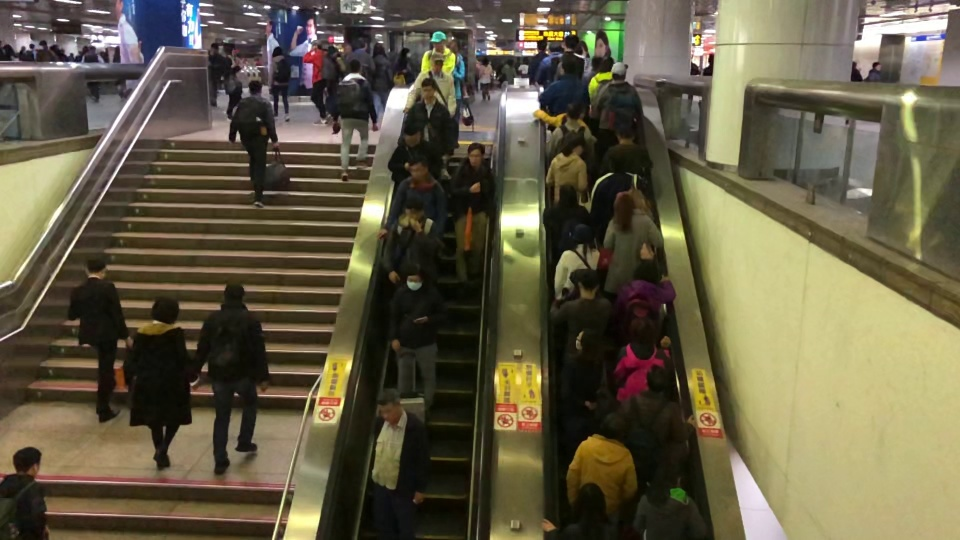person_head: (445, 39, 465, 150), (572, 480, 608, 529), (222, 42, 243, 121), (646, 460, 683, 503), (12, 444, 43, 479), (612, 190, 635, 235), (376, 387, 403, 424), (151, 295, 180, 328), (628, 316, 657, 348), (598, 411, 628, 441), (634, 258, 663, 285), (645, 363, 669, 393), (614, 117, 637, 147), (578, 268, 599, 300), (404, 262, 426, 291), (575, 328, 600, 353), (559, 134, 585, 158), (407, 154, 429, 181), (223, 281, 246, 306), (466, 140, 486, 168), (607, 150, 631, 173), (558, 183, 579, 209), (403, 196, 424, 222), (571, 223, 592, 248), (85, 257, 108, 279), (428, 30, 447, 54), (403, 123, 421, 148), (420, 77, 437, 102), (610, 61, 629, 81), (560, 57, 578, 76), (430, 51, 445, 73), (246, 79, 263, 96), (563, 34, 579, 52), (566, 103, 581, 120), (347, 58, 362, 74), (447, 41, 459, 60), (597, 59, 612, 74), (355, 36, 368, 51), (547, 41, 562, 54), (591, 55, 603, 71), (375, 44, 387, 58), (271, 45, 284, 57), (224, 43, 235, 57), (399, 47, 411, 59), (536, 40, 547, 53), (311, 39, 322, 51), (871, 61, 883, 72), (343, 43, 354, 53), (210, 42, 219, 54), (38, 40, 47, 50), (88, 45, 97, 54), (481, 57, 489, 67), (506, 58, 514, 67), (522, 55, 530, 64), (114, 45, 121, 54)
person_vbox: (197, 283, 271, 474), (125, 294, 193, 470), (68, 254, 133, 423), (368, 384, 431, 539), (618, 365, 698, 481), (566, 408, 637, 529), (387, 263, 438, 419), (449, 141, 497, 285), (228, 79, 280, 208), (602, 190, 665, 295), (374, 158, 448, 247), (591, 148, 656, 243), (549, 269, 614, 361), (631, 464, 709, 540), (609, 260, 676, 347), (611, 316, 672, 407), (333, 58, 378, 181), (542, 182, 594, 288), (382, 195, 439, 289), (559, 328, 604, 442), (0, 446, 53, 539), (540, 481, 622, 540), (591, 62, 643, 155), (536, 56, 591, 133), (595, 117, 653, 188), (405, 76, 453, 161), (402, 51, 456, 122), (554, 223, 600, 299), (387, 123, 443, 185), (302, 39, 341, 127), (545, 103, 597, 168), (546, 138, 591, 212), (536, 35, 585, 85), (268, 46, 292, 122), (372, 44, 393, 129), (588, 58, 616, 120), (420, 31, 456, 76), (533, 108, 594, 133), (81, 46, 107, 104), (347, 36, 376, 83), (206, 41, 226, 109), (534, 41, 563, 80), (392, 46, 417, 87), (528, 40, 550, 84), (111, 45, 126, 93), (864, 62, 892, 84), (582, 57, 603, 85), (479, 55, 492, 100), (36, 39, 58, 62), (501, 57, 519, 85), (518, 54, 531, 75)
